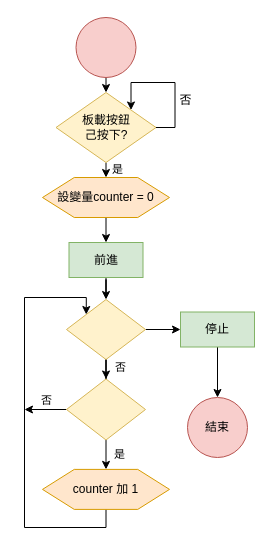
Some shapes in this 272 by 553 pixel diagram are drawn without their labels. The centre of each missing label's shape, as x and y in pixels:
"counter 等於3?" goes at (x=106, y=329).
"遇到黑線?" goes at (x=106, y=409).
"開始" goes at (x=105, y=47).
